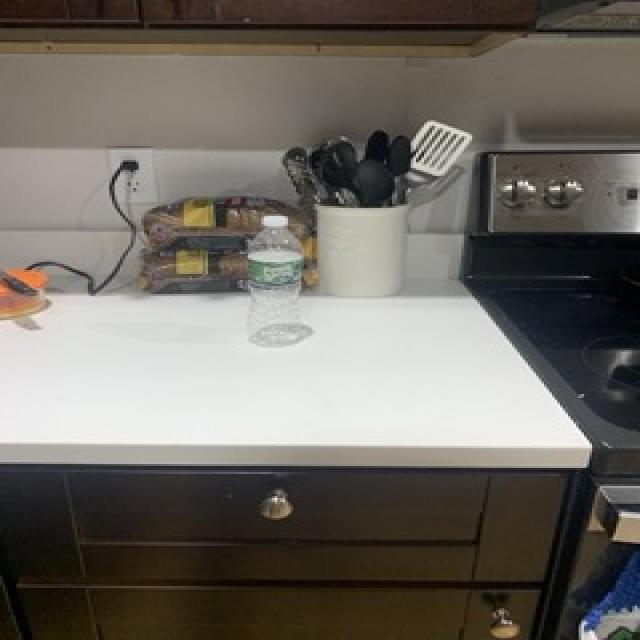water_bottle: (243, 213, 307, 348)
